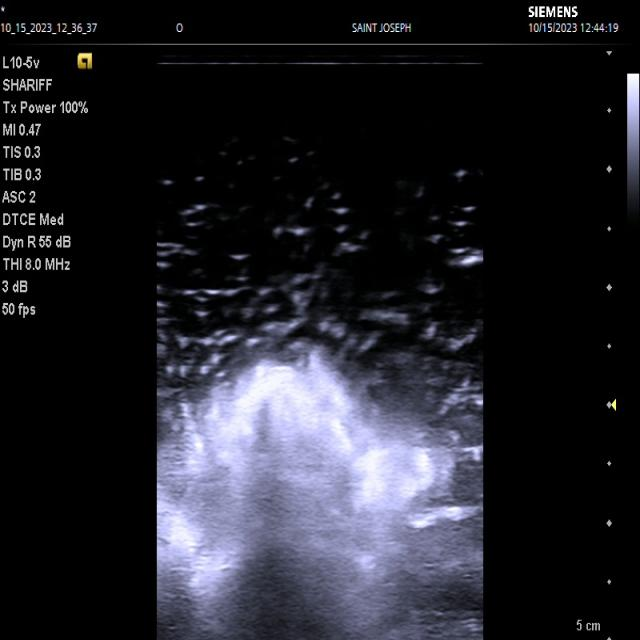tissue: (158, 361, 482, 640)
